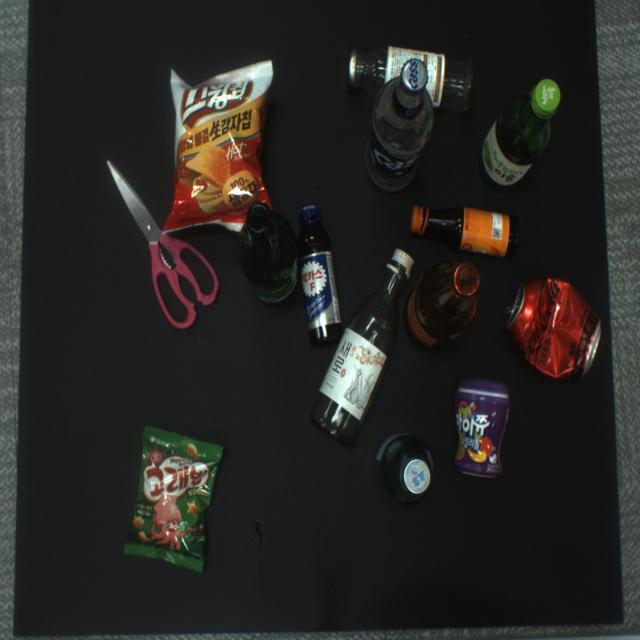soju-bottle: (311, 249, 414, 444)
